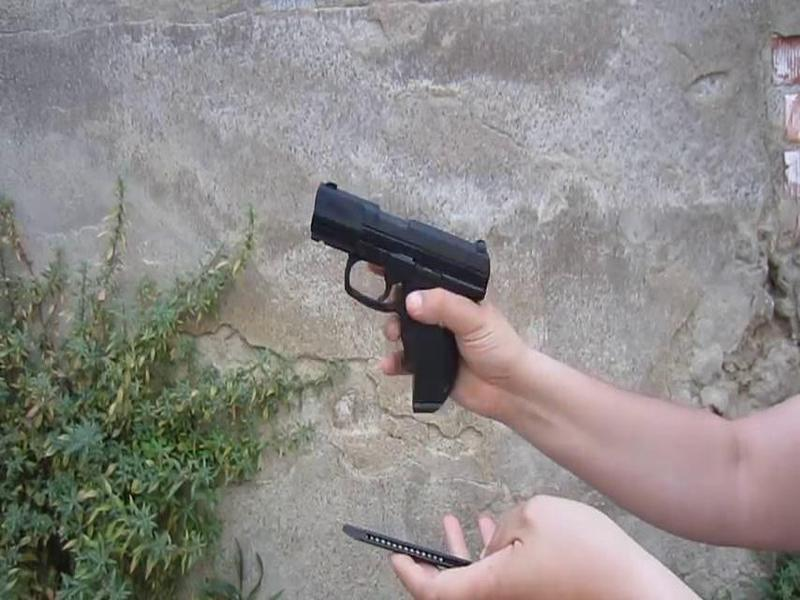Pistola: (283, 171, 474, 440)
